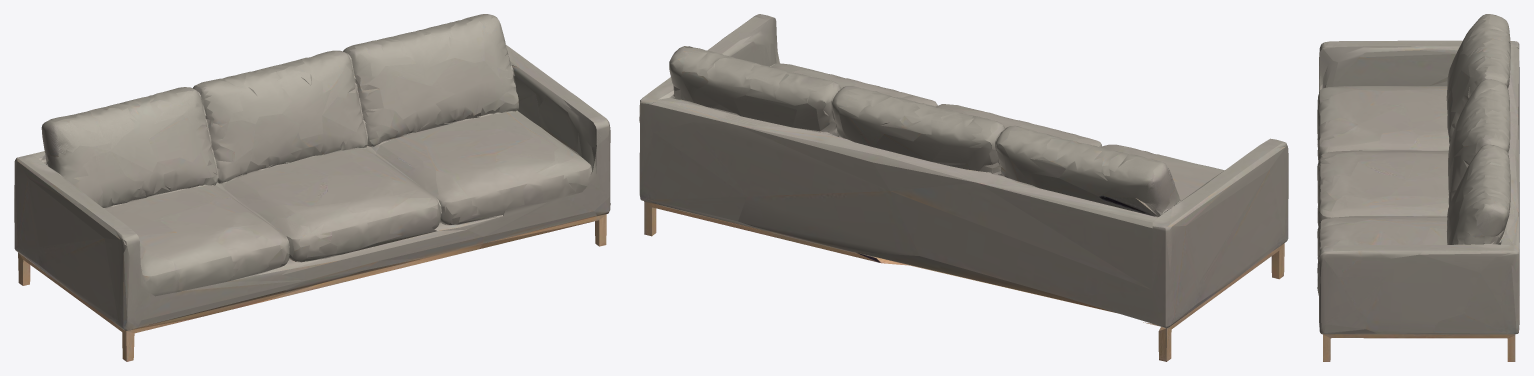
The model's file is sofa.glb.
3 views of the same model, side by side, from view 1: azimuth 30°, elevation 25°; view 2: azimuth 150°, elevation 25°; view 3: azimuth 270°, elevation 25° (orthographic). The views are drawn at different scales.
Size of the model in its own units: 1.9 by 0.6191 by 0.7648.
1 material, 1 textured.
